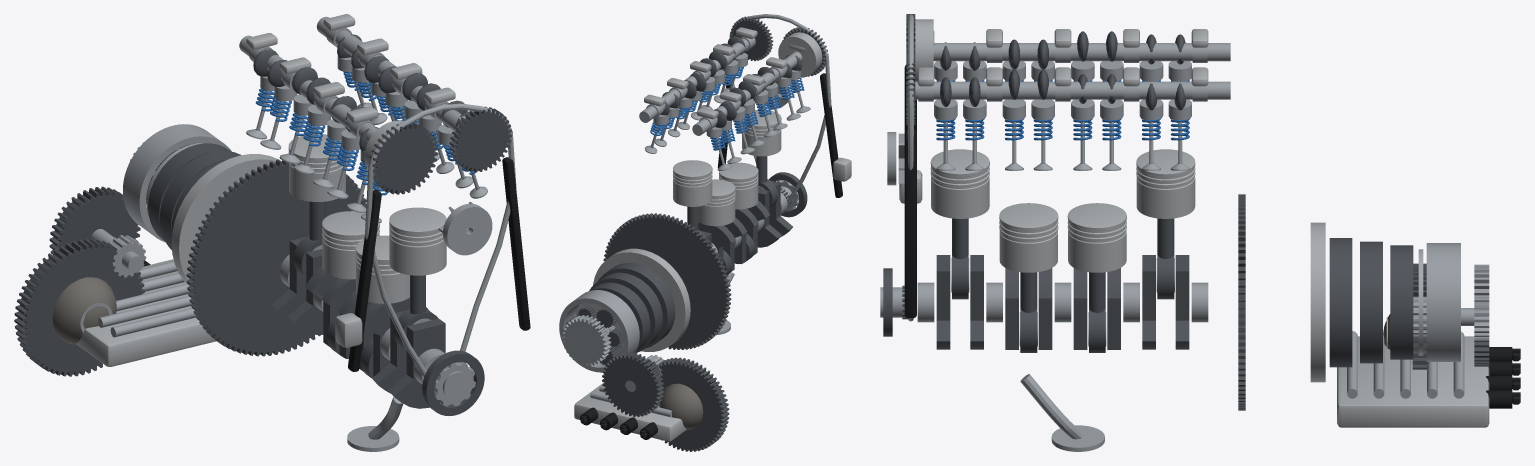
File: mecanismos.glb
The picture shows the model from 3 angles, left to right: view 1: azimuth 30°, elevation 25°; view 2: azimuth 150°, elevation 25°; view 3: azimuth 270°, elevation 25°; orthographic projection. The views are drawn at different scales.
Parts seen in each view (by area): view 1: ciguenal, arboles_levas, pistones, caja_diferencial, valvulas, caja_cuerpo_valvulas, cadena, bombas, caja_engranajes, caja_bomba_aceite, caja_planetario, caja_embragues; view 2: ciguenal, arboles_levas, pistones, valvulas, caja_engranajes, caja_diferencial, caja_embragues, caja_planetario, caja_cuerpo_valvulas, caja_bomba_aceite, cadena, bombas; view 3: pistones, arboles_levas, ciguenal, caja_cuerpo_valvulas, valvulas, caja_embragues, caja_planetario, cadena, bombas, caja_bomba_aceite, caja_engranajes, caja_diferencial.
Part boxes in pixels (x1,y1,x2,y2): ciguenal: [186, 159, 469, 408]; arboles_levas: [239, 14, 512, 194]; pistones: [288, 134, 446, 378]; caja_diferencial: [14, 239, 144, 376]; valvulas: [246, 55, 487, 223]; caja_cuerpo_valvulas: [76, 259, 216, 366]; cadena: [335, 103, 530, 376]; bombas: [347, 202, 492, 451]; caja_engranajes: [49, 142, 179, 277]; caja_bomba_aceite: [171, 154, 281, 285]; caja_planetario: [123, 124, 231, 242]; caja_embragues: [148, 143, 241, 249]; ciguenal: [603, 180, 793, 349]; arboles_levas: [639, 16, 828, 135]; pistones: [673, 110, 781, 274]; valvulas: [644, 53, 810, 170]; caja_engranajes: [562, 315, 664, 416]; caja_diferencial: [659, 357, 729, 451]; caja_embragues: [589, 263, 675, 352]; caja_planetario: [559, 290, 639, 372]; caja_cuerpo_valvulas: [574, 382, 686, 441]; caja_bomba_aceite: [593, 248, 690, 351]; cadena: [717, 14, 851, 207]; bombas: [716, 81, 807, 335]; pistones: [930, 149, 1195, 352]; arboles_levas: [906, 14, 1230, 124]; ciguenal: [880, 194, 1245, 410]; caja_cuerpo_valvulas: [1337, 331, 1520, 427]; valvulas: [934, 61, 1191, 170]; caja_embragues: [1329, 238, 1413, 367]; caja_planetario: [1418, 243, 1460, 361]; cadena: [899, 14, 922, 321]; bombas: [883, 132, 1104, 451]; caja_bomba_aceite: [1310, 222, 1325, 382]; caja_engranajes: [1413, 264, 1489, 366]; caja_diferencial: [1383, 263, 1429, 369].
Bounding box in the file's own units: 0.412 × 0.6248 × 0.841.
